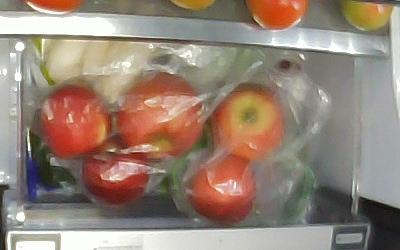apple_vinyl: (117, 73, 204, 159), (207, 84, 284, 161), (40, 85, 112, 159), (188, 151, 255, 224), (84, 136, 150, 204)
